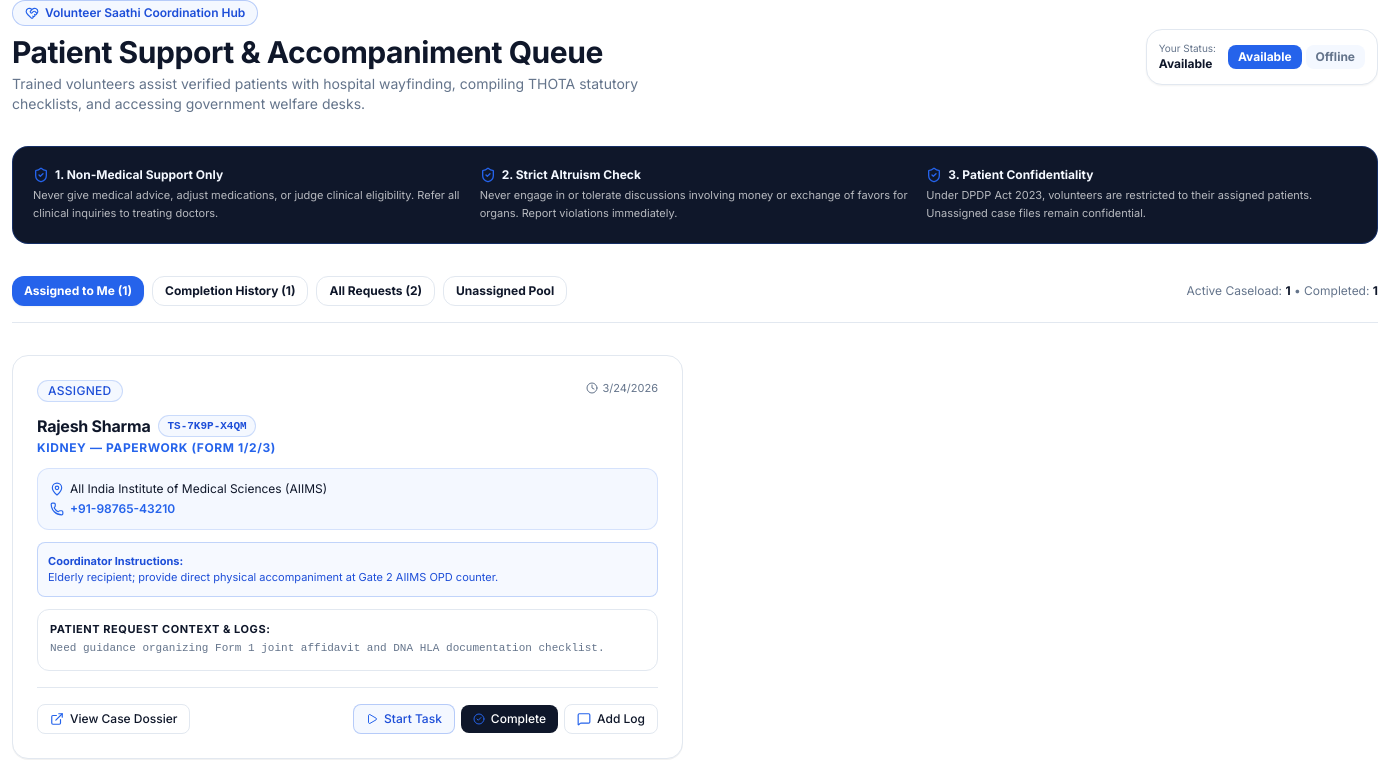
Volunteer Portal & Least Privilege Security Suite › Assigned Requests & Task Progress Workflow › displays completion history tab with completed tasks
Click the button "Completion History (1)" at (230, 291), box [152,276,308,306]
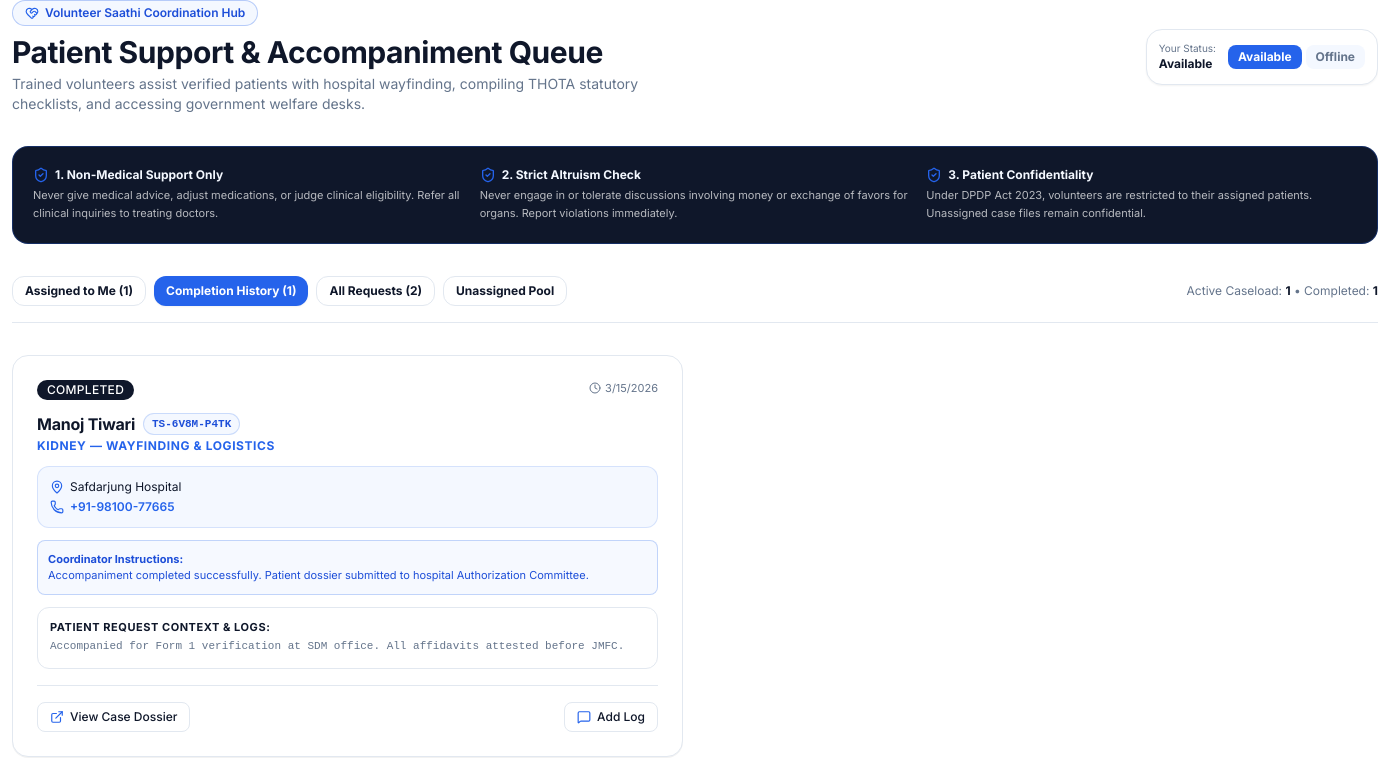
Expected: the heading "Manoj Tiwari" is shown, [37,412,135,436]
Expected: the text "Safdarjung Hospital" is shown, [70,479,182,495]
